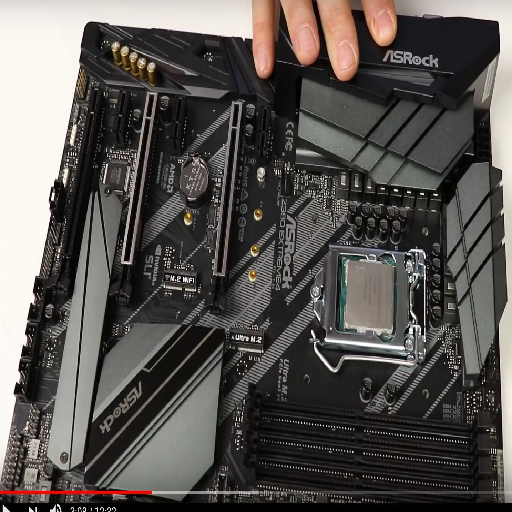CPU: (311, 242, 429, 362)
GPU: (106, 91, 159, 300), (205, 99, 245, 313)
MOTHERBOARD: (2, 20, 504, 502)
RAM: (234, 381, 498, 507)
SSD: (158, 264, 204, 298), (225, 325, 265, 356)
